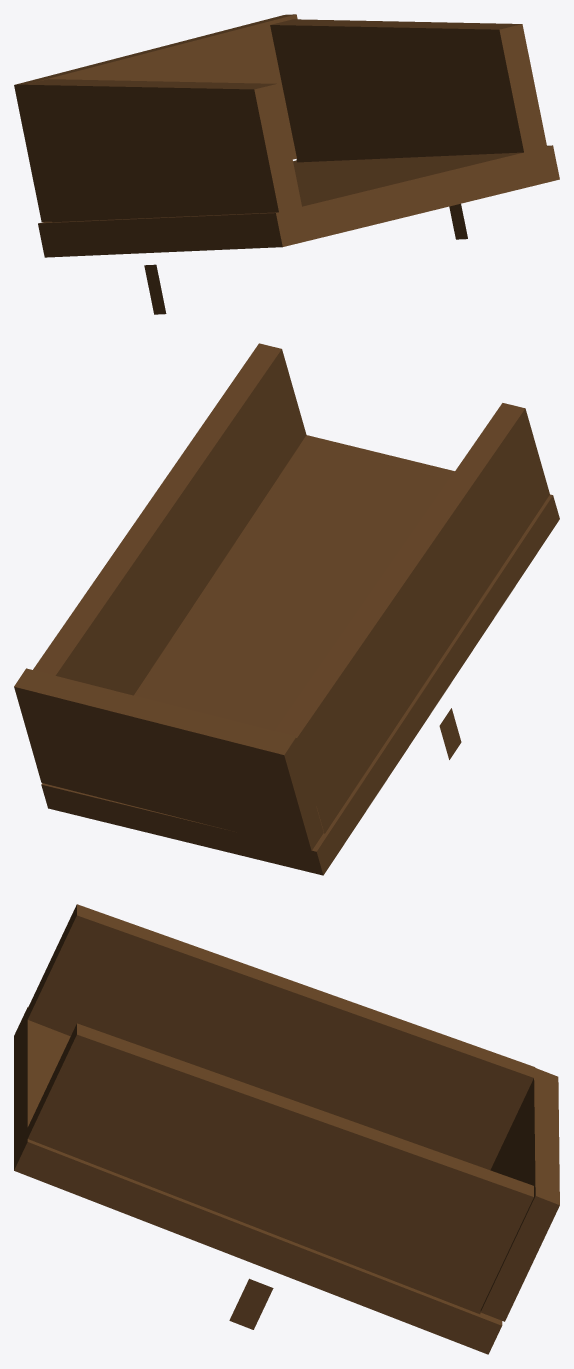
Rendered from prop_wagon_wood.glb.
3 renders of one model, top to bottom at view 1: azimuth 30°, elevation 25°; view 2: azimuth 150°, elevation 25°; view 3: azimuth 270°, elevation 25°, orthographic.
Parts seen in each view (by area): view 1: Props with out snow_Wagon wood_0; view 2: Props with out snow_Wagon wood_0; view 3: Props with out snow_Wagon wood_0.
Part boxes in pixels (bbox=[...]): Props with out snow_Wagon wood_0: bbox=[14, 14, 559, 314]; Props with out snow_Wagon wood_0: bbox=[14, 343, 559, 875]; Props with out snow_Wagon wood_0: bbox=[14, 904, 559, 1354].
Size of the model in its own units: 2.4 by 2.42 by 3.77.
